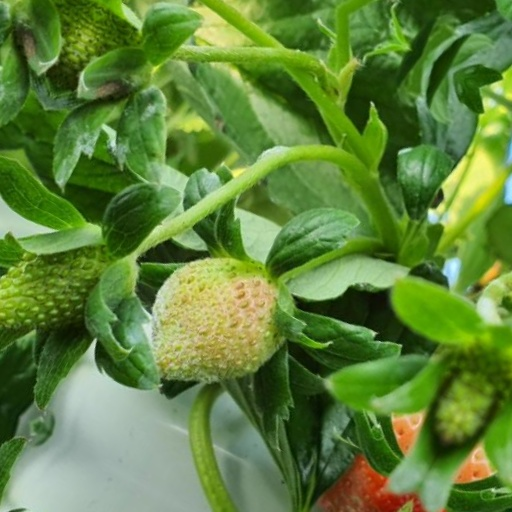Powdery Mildew Fruit: (188, 264, 324, 410)
